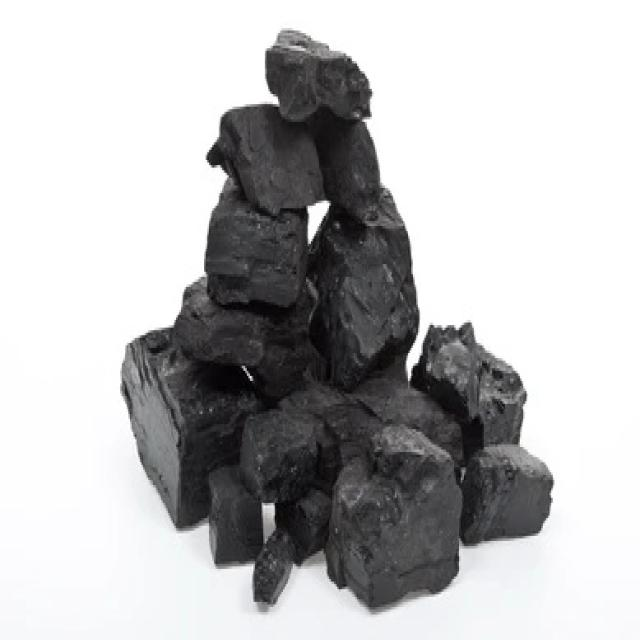Sedimentary: (117, 28, 564, 607)
